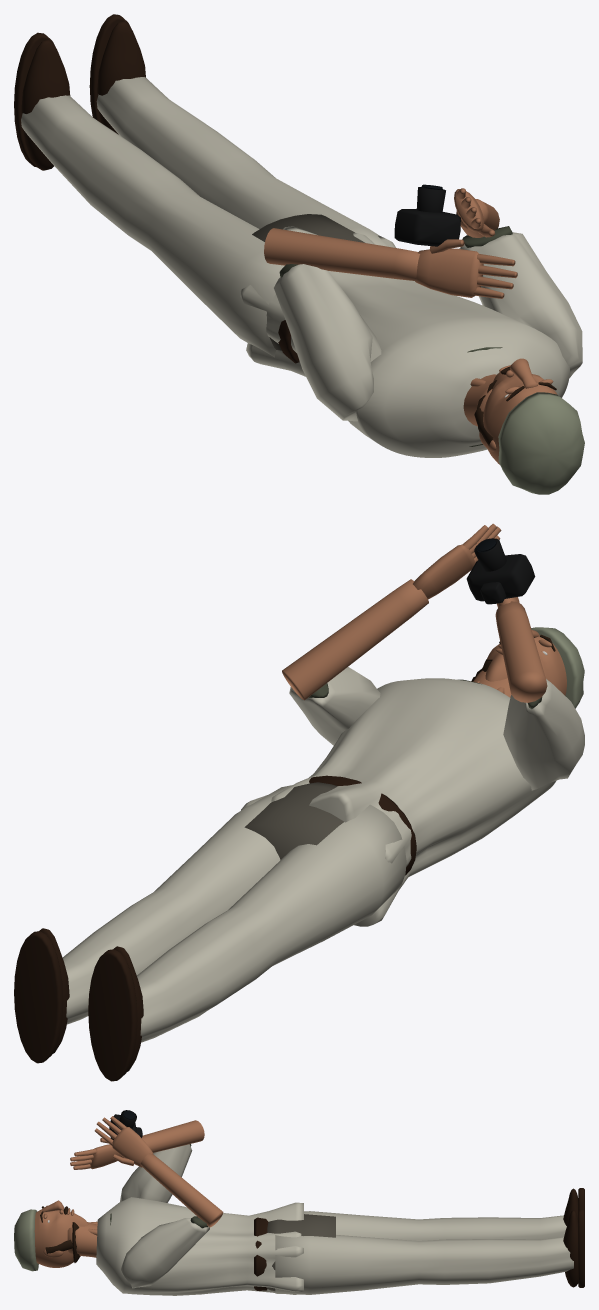
The model's file is SM_V3_Visitor_Camera.obj.
3 views of the same model, one above another, from view 1: azimuth 30°, elevation 25°; view 2: azimuth 150°, elevation 25°; view 3: azimuth 270°, elevation 25° (orthographic). The views are drawn at different scales.
Visible parts, largest first — view 1: Tunic, TrouserR, TrouserL, SleeveR, Cap, SleeveL, ForearmR, ShoeR, PalmR, ShoeL, CameraBody, Head (+5 smaller); view 2: Tunic, TrouserR, TrouserL, SleeveR, ForearmL, SoleL, SoleR, Seat, ForearmR, SleeveL, CameraBody, PalmL (+5 smaller); view 3: TrouserL, Tunic, TrouserR, SleeveL, ForearmL, Head, SleeveR, Seat, ForearmR, Cap, PalmL, ShoeL (+5 smaller).
Part boxes in pixels (left/top/right/bottom): Tunic: left=240, top=226, right=569, bottom=457; TrouserR: left=21, top=95, right=284, bottom=357; TrouserL: left=96, top=77, right=388, bottom=246; SleeveR: left=274, top=264, right=381, bottom=421; Cap: left=498, top=392, right=584, bottom=494; SleeveL: left=459, top=232, right=582, bottom=377; ForearmR: left=264, top=228, right=419, bottom=280; ShoeR: left=21, top=40, right=70, bottom=170; PalmR: left=414, top=248, right=483, bottom=297; ShoeL: left=97, top=21, right=145, bottom=134; CameraBody: left=394, top=209, right=460, bottom=246; Head: left=483, top=372, right=557, bottom=464; Tunic: left=241, top=678, right=555, bottom=926; TrouserR: left=137, top=804, right=406, bottom=1042; TrouserL: left=62, top=785, right=294, bottom=1024; SleeveR: left=503, top=679, right=584, bottom=790; ForearmL: left=282, top=579, right=428, bottom=700; SoleL: left=14, top=931, right=63, bottom=1063; SoleR: left=88, top=949, right=137, bottom=1081; Seat: left=244, top=782, right=343, bottom=859; ForearmR: left=495, top=601, right=547, bottom=702; SleeveL: left=289, top=667, right=380, bottom=745; CameraBody: left=466, top=554, right=535, bottom=601; PalmL: left=413, top=544, right=475, bottom=599; TrouserL: left=275, top=1235, right=573, bottom=1294; Tunic: left=96, top=1197, right=303, bottom=1295; TrouserR: left=304, top=1211, right=566, bottom=1240; SleeveL: left=121, top=1218, right=209, bottom=1288; ForearmL: left=140, top=1153, right=223, bottom=1227; Head: left=34, top=1209, right=88, bottom=1267; SleeveR: left=120, top=1144, right=192, bottom=1202; Seat: left=267, top=1214, right=335, bottom=1290; ForearmR: left=123, top=1120, right=204, bottom=1157; Cap: left=14, top=1209, right=38, bottom=1271; PalmL: left=112, top=1127, right=153, bottom=1167; ShoeL: left=563, top=1210, right=578, bottom=1287.
Size of the model in its own units: 57.85 by 58.9 by 179.
